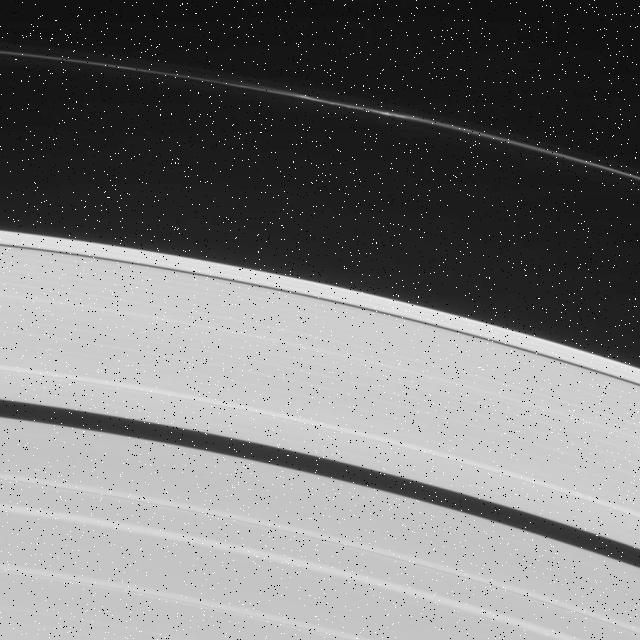Saturn: (0, 47, 640, 640)
